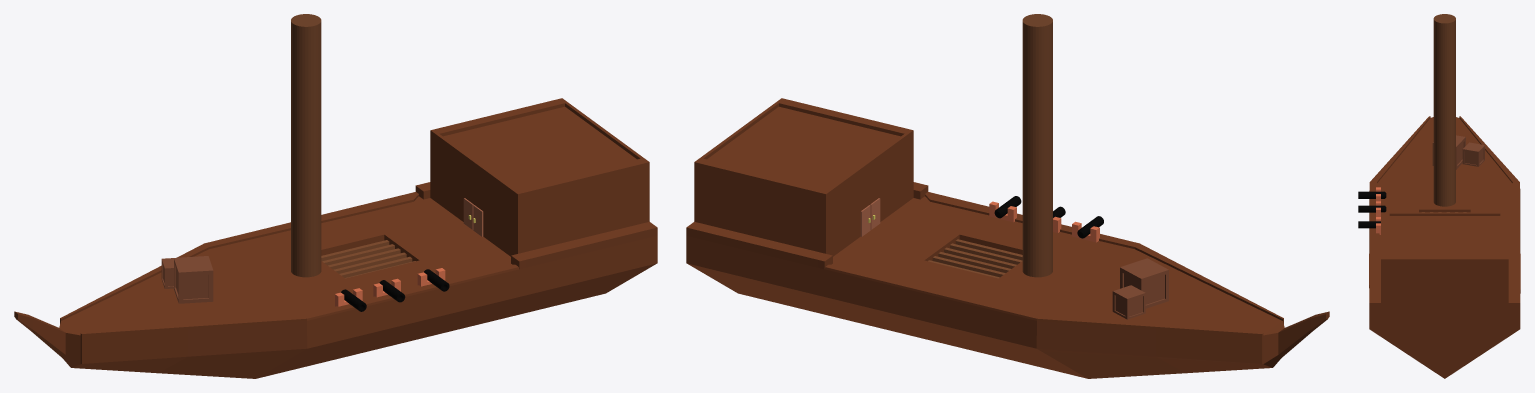
The model's file is ship.fbx.
3 views of the same model, side by side, from view 1: azimuth 30°, elevation 25°; view 2: azimuth 150°, elevation 25°; view 3: azimuth 270°, elevation 25° (orthographic). The views are drawn at different scales.
Parts seen in each view (by area): view 1: Boat, Mast, Grate, Crate.001, Doors; view 2: Boat, Mast, Grate, Crate.001, Crate, Doors, Cannon.001, Cannon.002; view 3: Boat, Mast, Crate, Crate.001, Cannon, Cannon.002, Cannon.001.
Boxes of the visible parts, x1=… form: Boat: x1=14, y1=98, x2=657, y2=378; Mast: x1=291, y1=14, x2=321, y2=277; Grate: x1=321, y1=240, x2=415, y2=278; Crate.001: x1=174, y1=256, x2=213, y2=303; Doors: x1=463, y1=198, x2=483, y2=236; Boat: x1=686, y1=98, x2=1329, y2=378; Mast: x1=1022, y1=14, x2=1052, y2=277; Grate: x1=928, y1=239, x2=1022, y2=278; Crate.001: x1=1120, y1=258, x2=1168, y2=308; Crate: x1=1112, y1=285, x2=1145, y2=319; Doors: x1=860, y1=198, x2=880, y2=236; Cannon.001: x1=989, y1=196, x2=1021, y2=222; Cannon.002: x1=1072, y1=216, x2=1103, y2=242; Boat: x1=1369, y1=116, x2=1520, y2=378; Mast: x1=1433, y1=14, x2=1455, y2=206; Crate: x1=1462, y1=142, x2=1484, y2=166; Crate.001: x1=1432, y1=135, x2=1465, y2=169; Cannon: x1=1358, y1=201, x2=1386, y2=216; Cannon.002: x1=1358, y1=187, x2=1386, y2=201; Cannon.001: x1=1358, y1=217, x2=1380, y2=234.
Size of the model in its own units: 4455 by 2499 by 1453.
